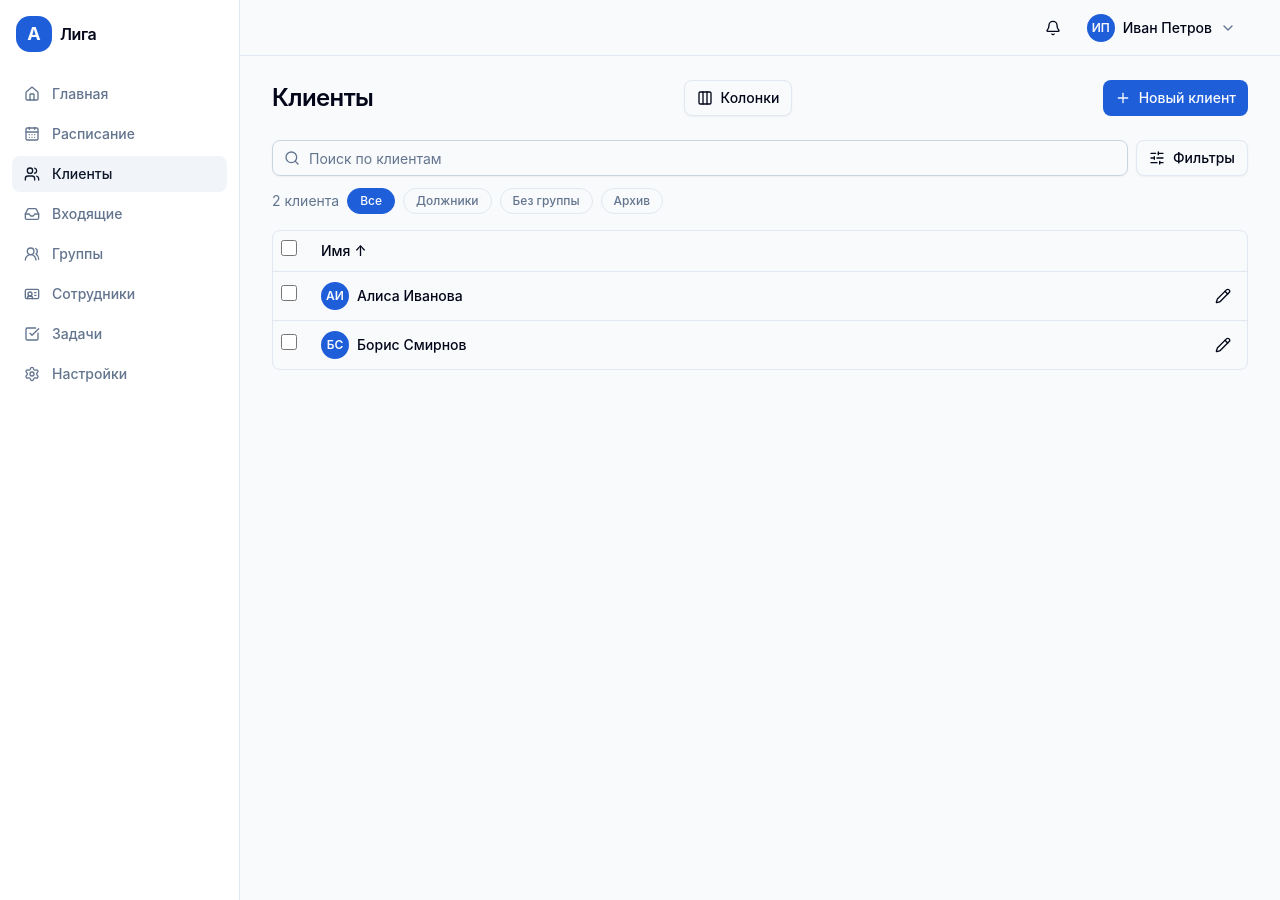
Scenario: список клиентов › экспортирует клиентов с выбранными полями
Expected: the table is shown, [273,231,1247,368]
Click the checkbox named "Выбрать «Алиса Иванова»": {"x": 289, "y": 293} [281,285,297,301]
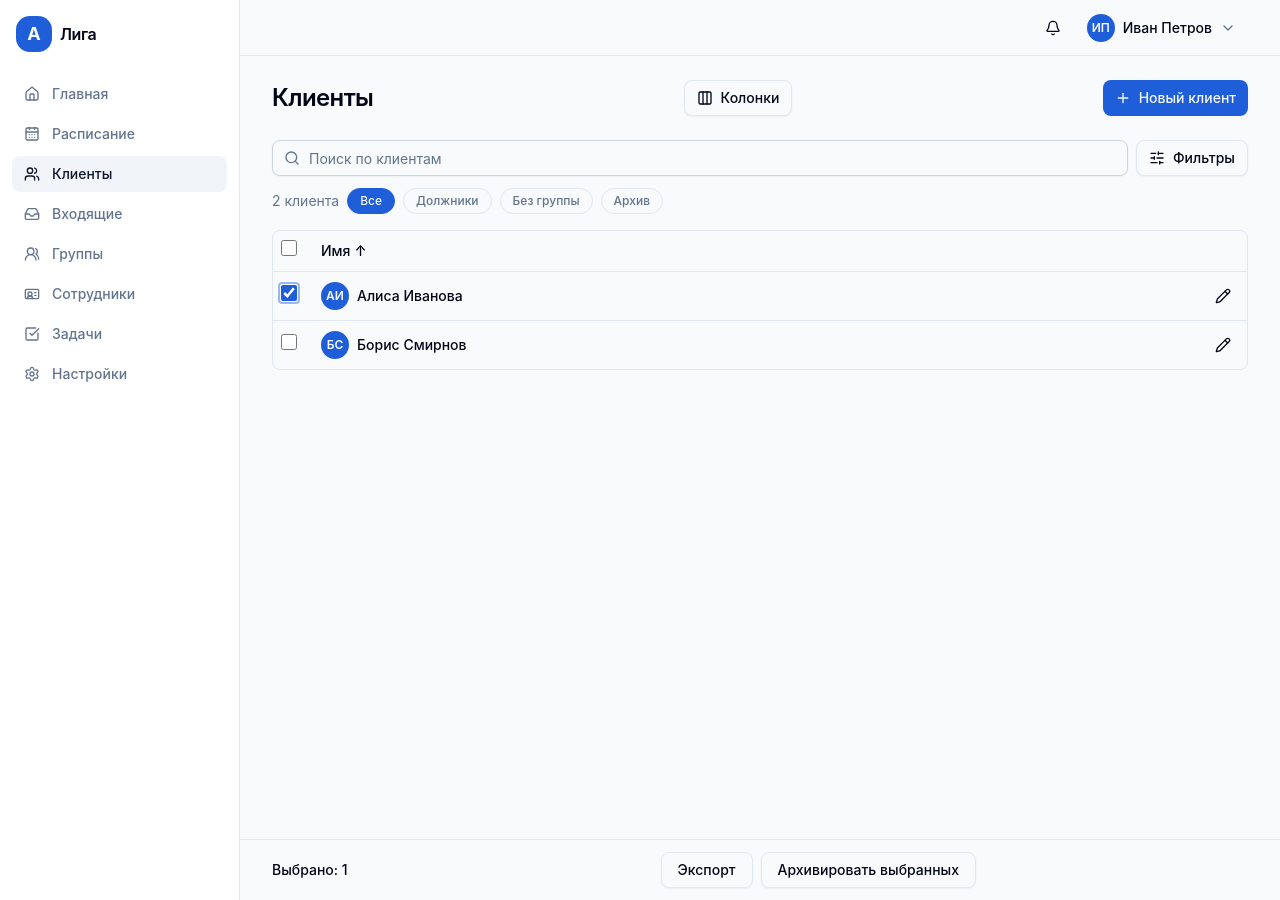
Click the button "Экспорт": {"x": 706, "y": 870} [660,852,752,888]
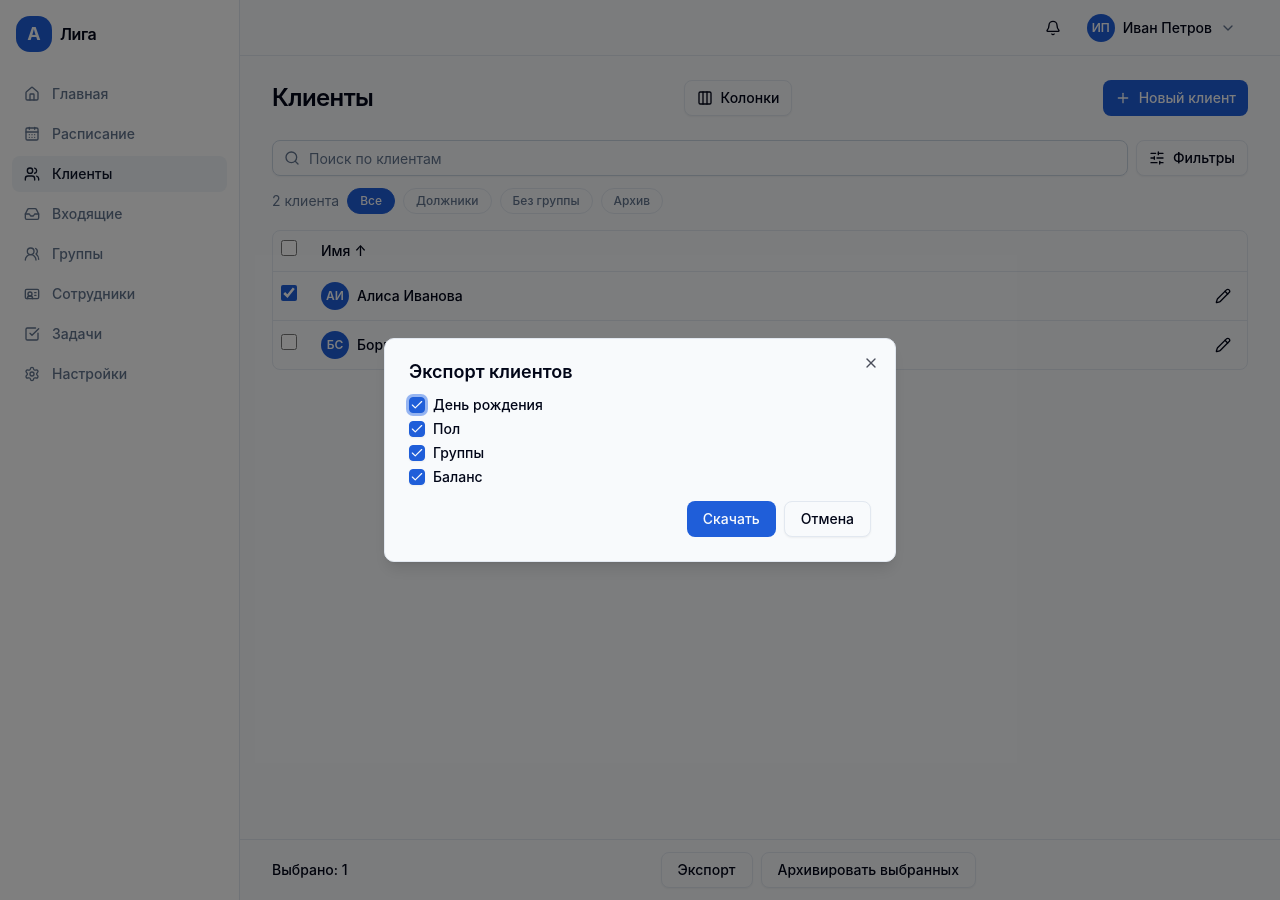
Click the checkbox named "Пол" next to "Пол": {"x": 417, "y": 429} [409,421,425,437]
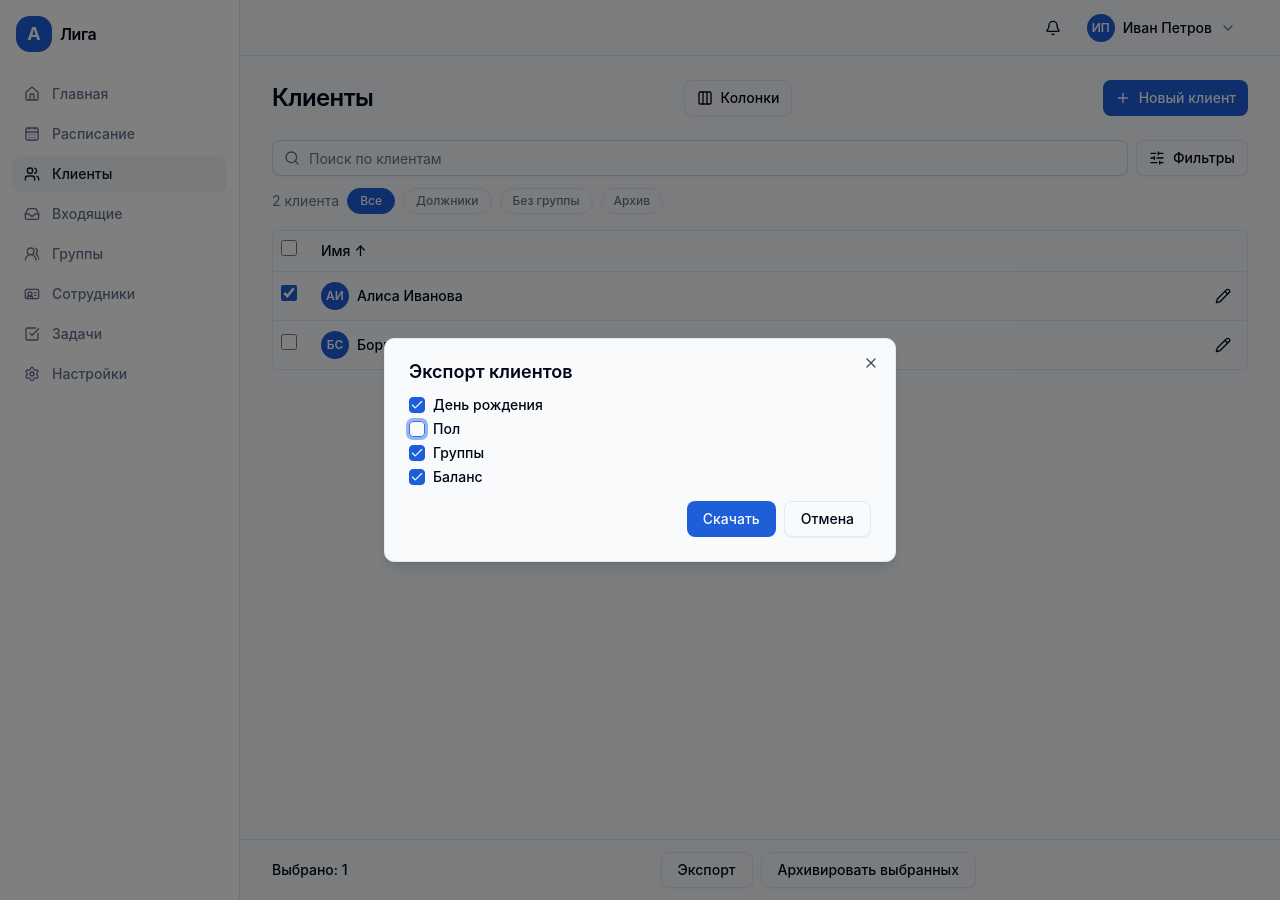
Click the button "Скачать": {"x": 731, "y": 519} [687,501,776,537]
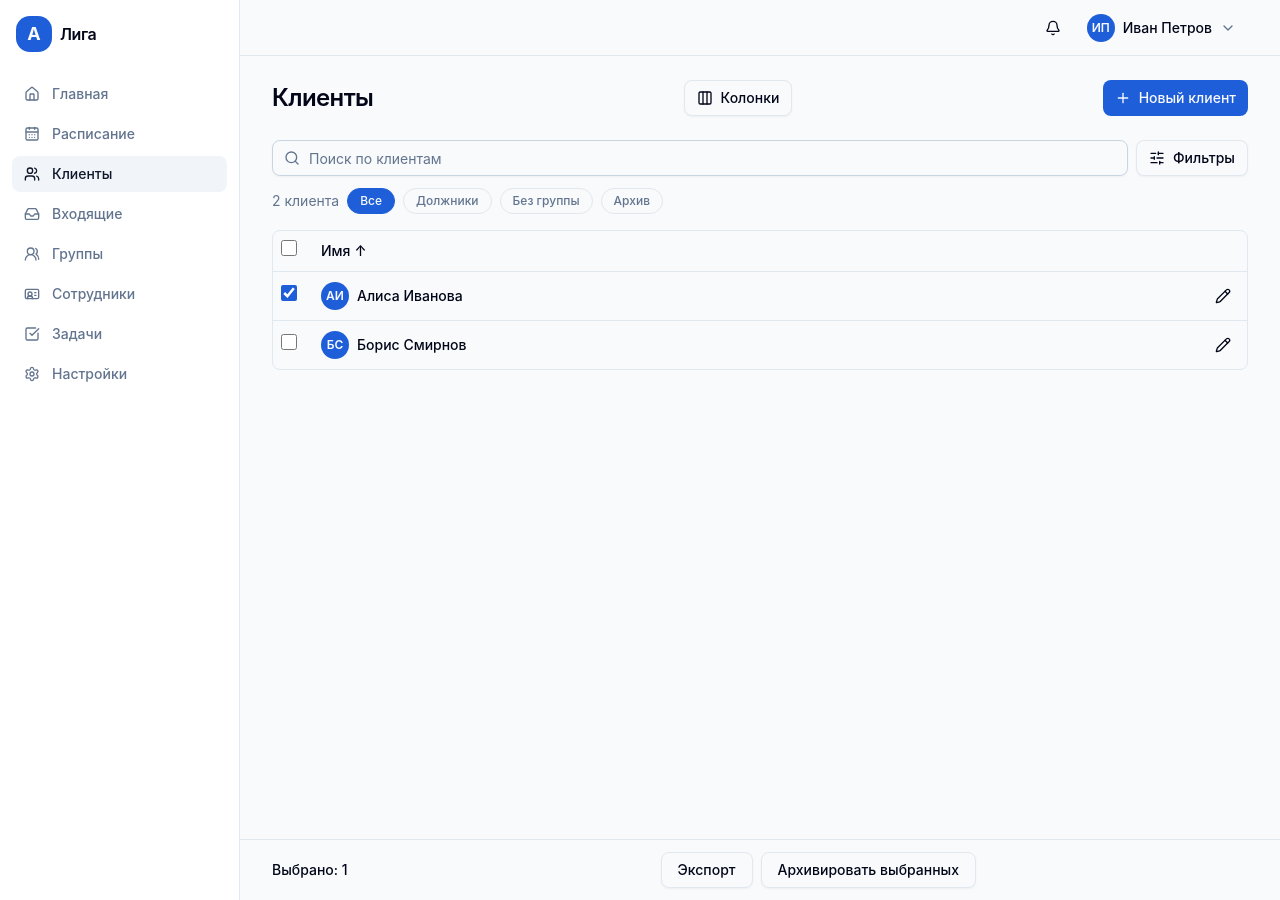
Result: the heading "Экспорт клиентов" is gone
